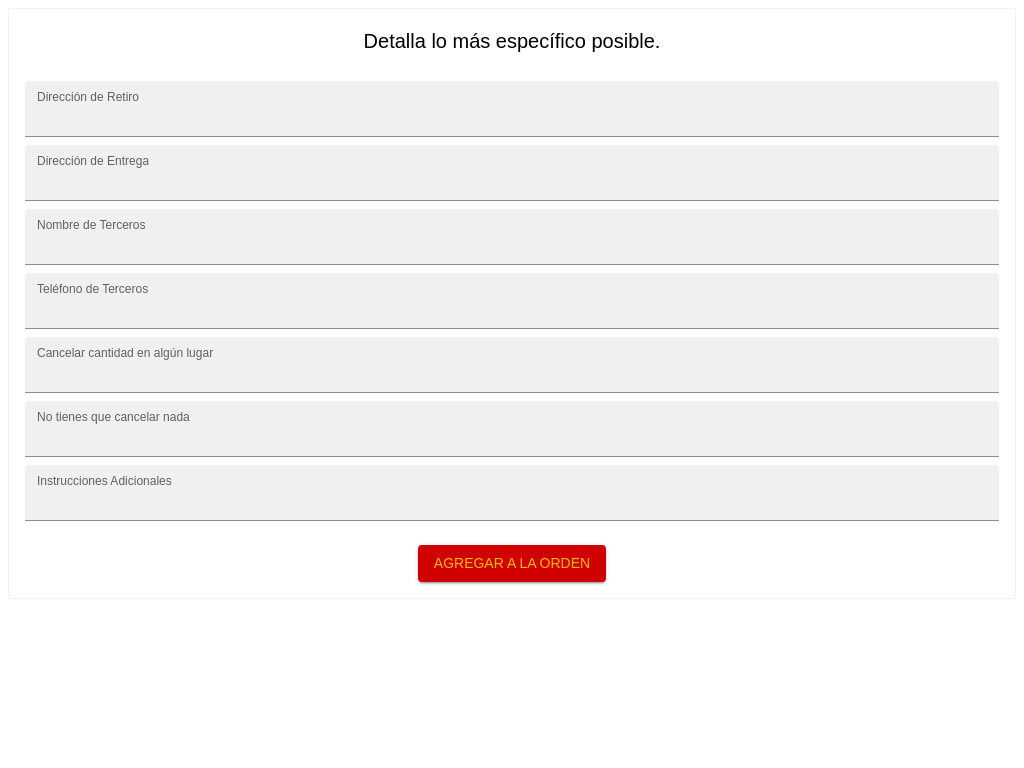
Scenario: presentation:components:organisms:little-errands-form:control › It should not submit the form if the [thirdPartyName] field is empty
Step 1. Type "38.8951,-77.0364" into the field labelled "Dirección de Retiro" → [512, 109], box [25,81,999,137]
Step 2. Type "32.8951,-80.0364" into the field labelled "Dirección de Entrega" → [512, 173], box [25,145,999,201]
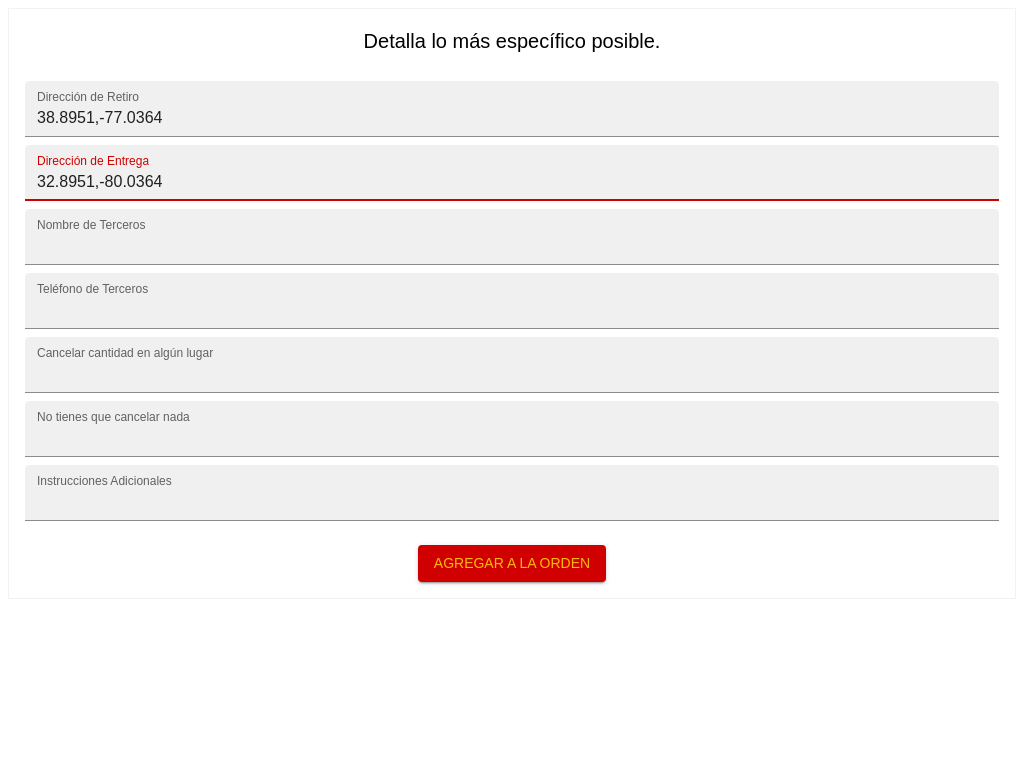
Step 3. Type "53565223" into the field labelled "Teléfono de Terceros" → [512, 301], box [25,273,999,329]
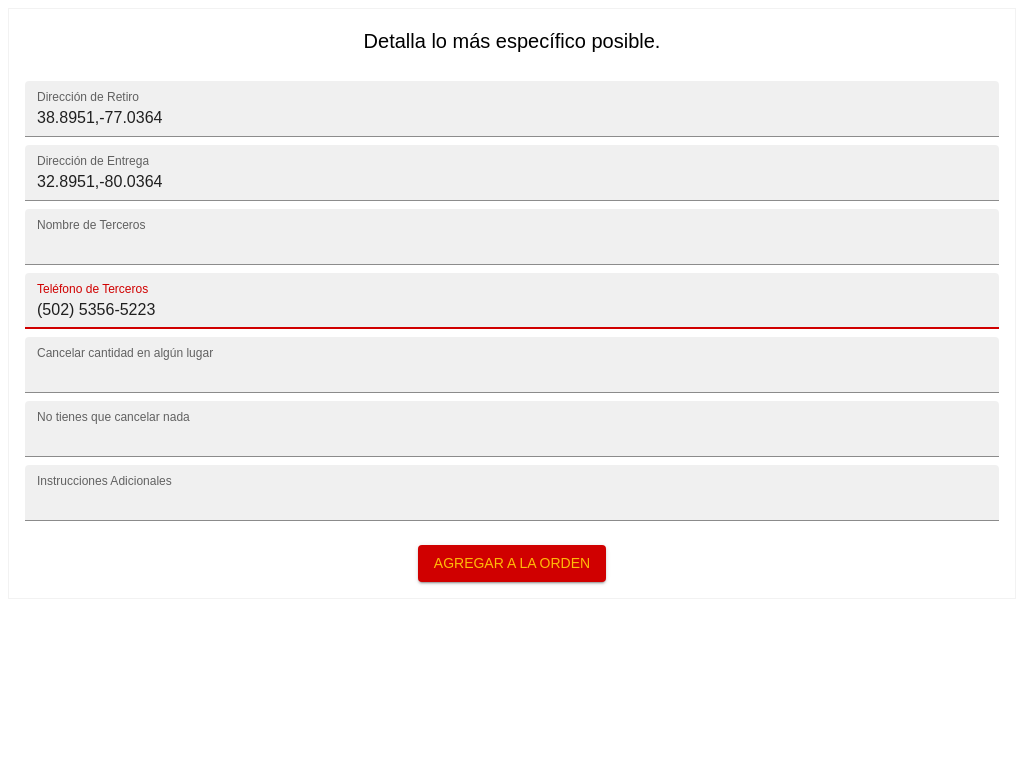
Step 4. Type "100.00" into the field labelled "Cancelar cantidad en algún lugar" → [512, 365], box [25,337,999,393]
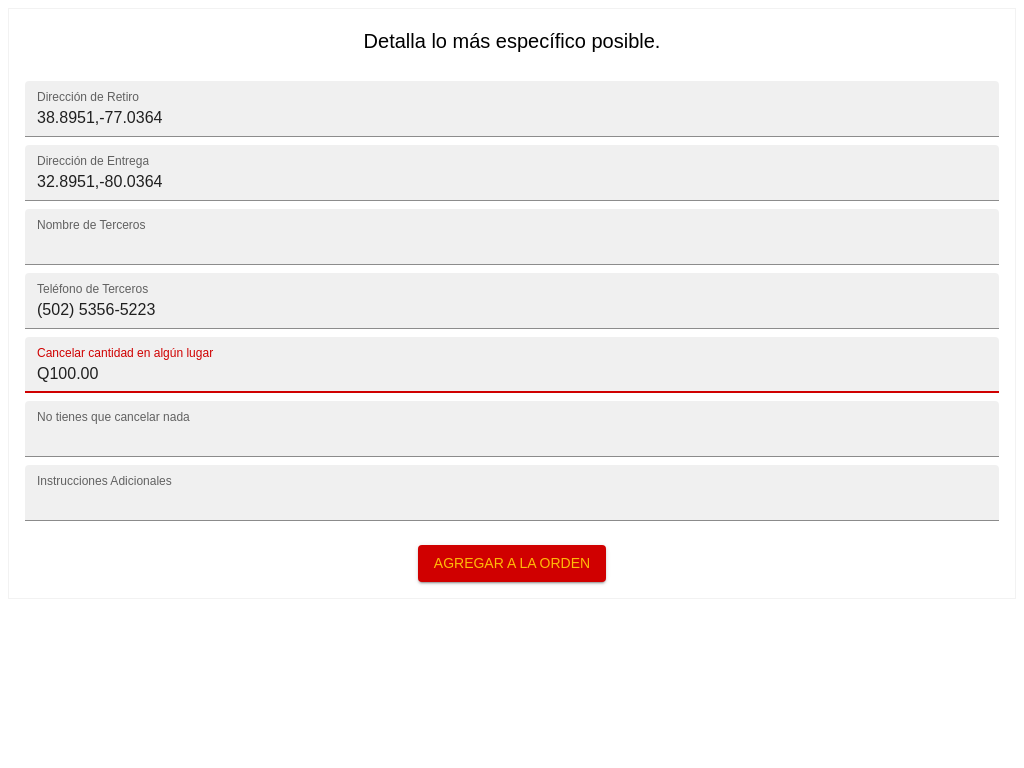
Step 5. Type "NO" into the field labelled "No tienes que cancelar nada" → [512, 429], box [25,401,999,457]
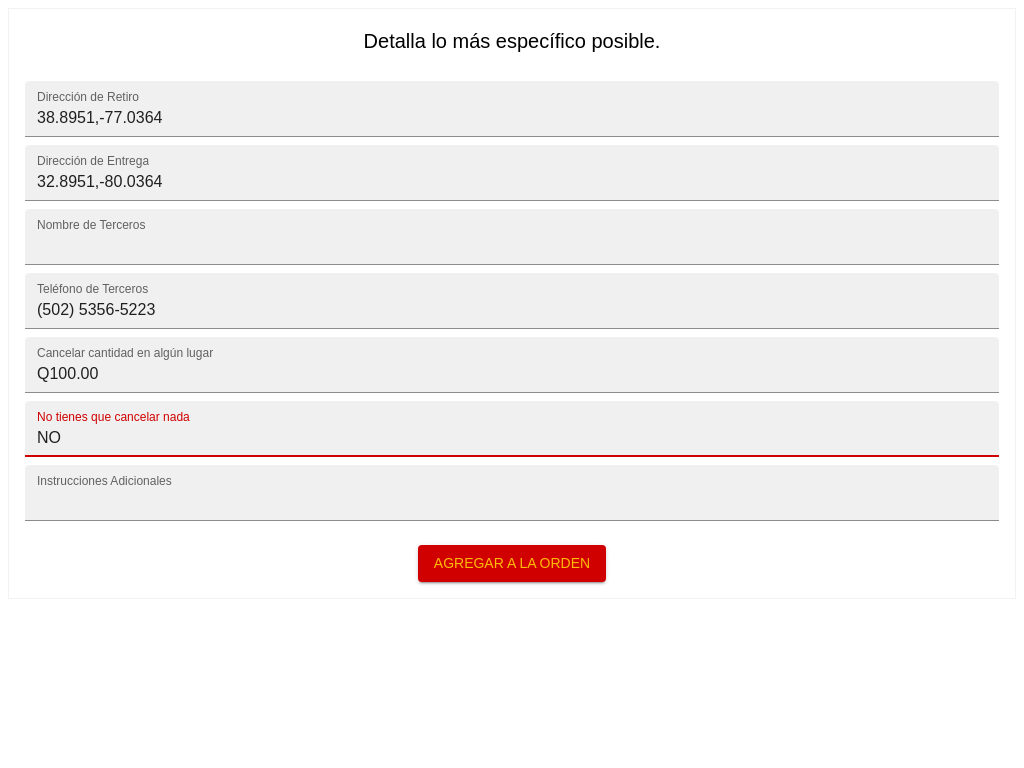
Step 6. Type "Favor pedir factura 4123123-4" into the field labelled "Instrucciones Adicionales" → [512, 493], box [25,465,999,521]
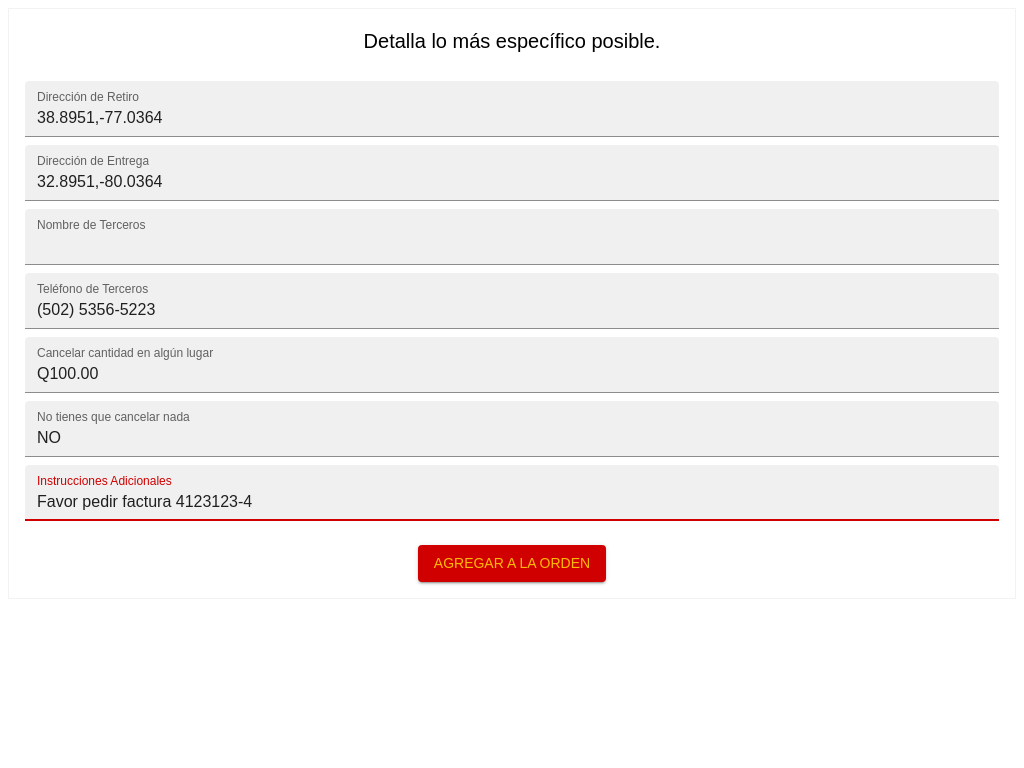
Step 7. Click the button "Agregar a la Orden" → [512, 563], box [418,545,606,582]
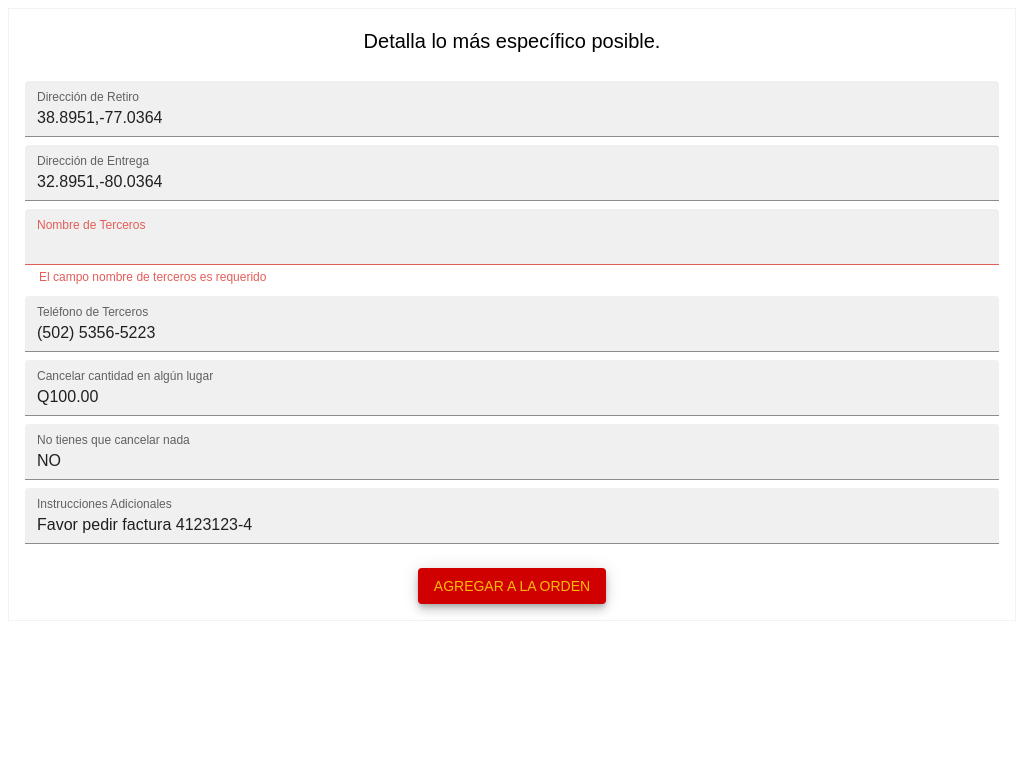
Result: the text "El campo nombre de terceros es requerido" is shown at [39,270,266,284]
